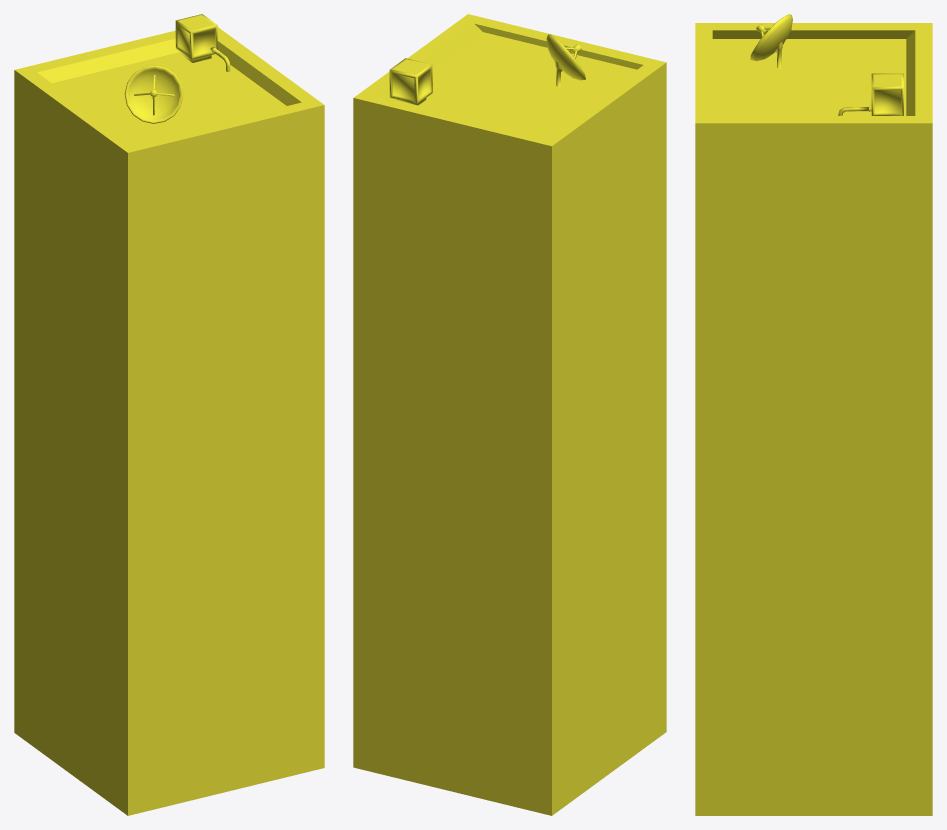
Rendered from Building5_yellow.fbx.
3 views of the same model, side by side, from view 1: azimuth 30°, elevation 25°; view 2: azimuth 150°, elevation 25°; view 3: azimuth 270°, elevation 25° (orthographic). The views are drawn at different scales.
Visible parts, largest first — view 1: Building 5; view 2: Building 5; view 3: Building 5.
Boxes of the visible parts, left/top/right/bottom form: Building 5: left=14, top=14, right=324, bottom=815; Building 5: left=353, top=14, right=666, bottom=815; Building 5: left=695, top=14, right=932, bottom=815.
Size of the model in its own units: 1305 by 4458 by 1305.
Materials: 1 (1 with a texture image).
